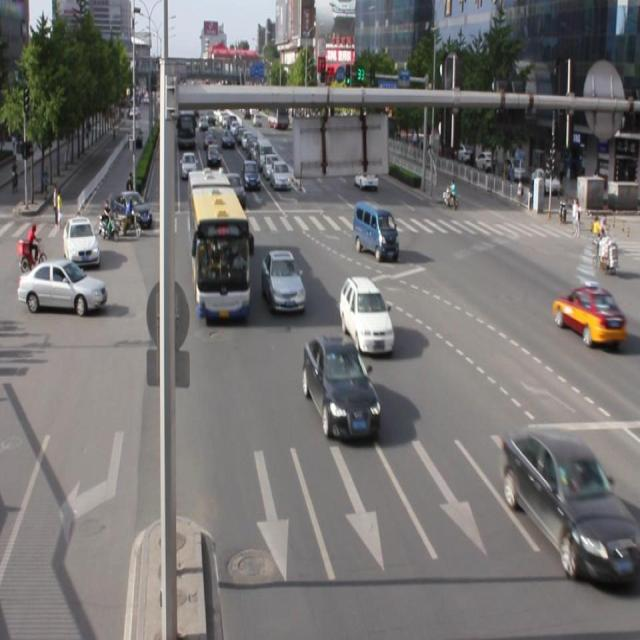car: (500, 427, 640, 588), (303, 334, 379, 442), (551, 285, 623, 346), (339, 278, 394, 354), (262, 250, 305, 312)
truck: (353, 202, 397, 261)
van: (188, 172, 250, 319)
